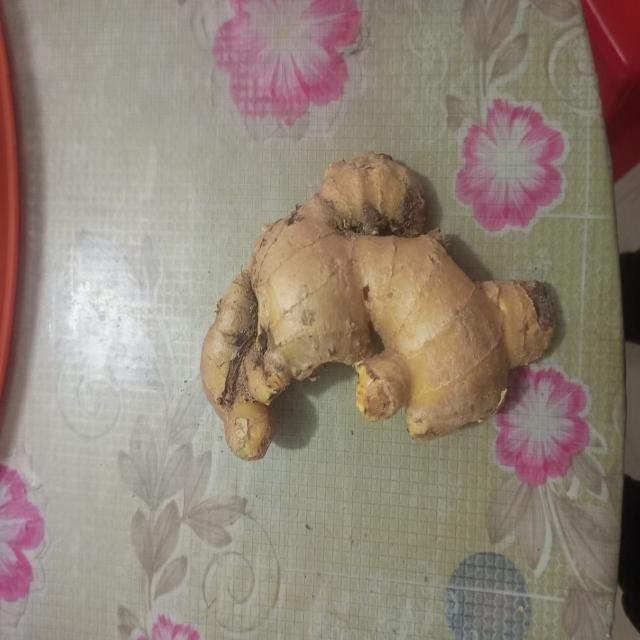ginger: (206, 156, 553, 447)
